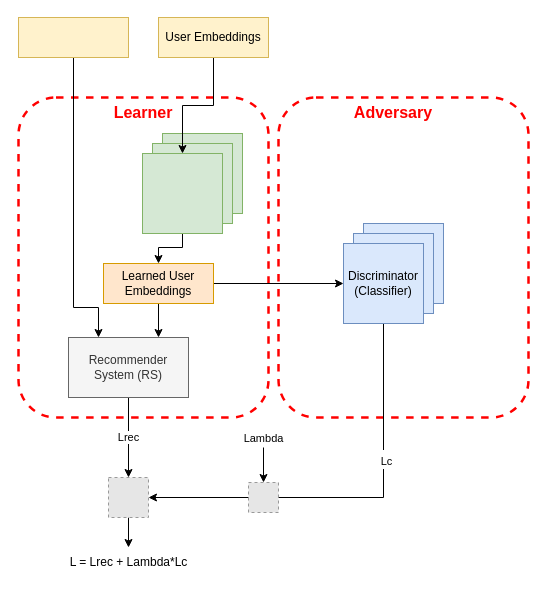
Image size: 547x595. Some labels were removed from this diagram. Grey dashed boxes stand in for pictures. Each missing label, with the box of its shape:
Demographic Filter: (142, 152, 222, 234)
Item Embeddings: (18, 16, 128, 58)
